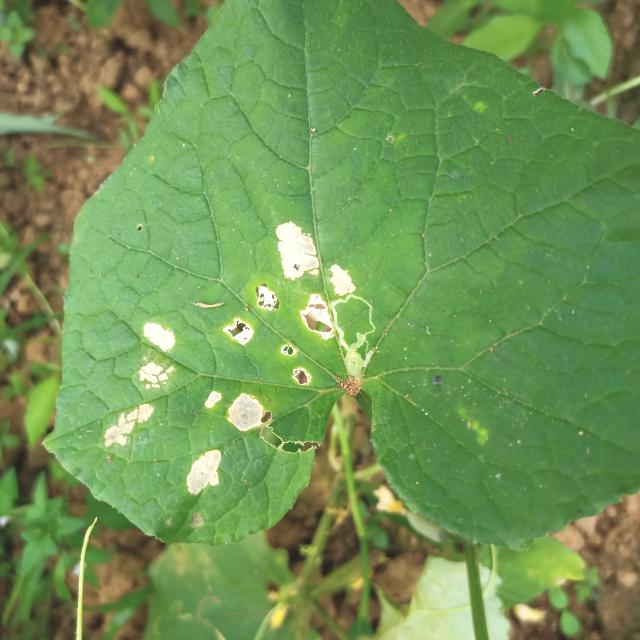disease_cucumber: (188, 220, 354, 490), (102, 319, 177, 449)
